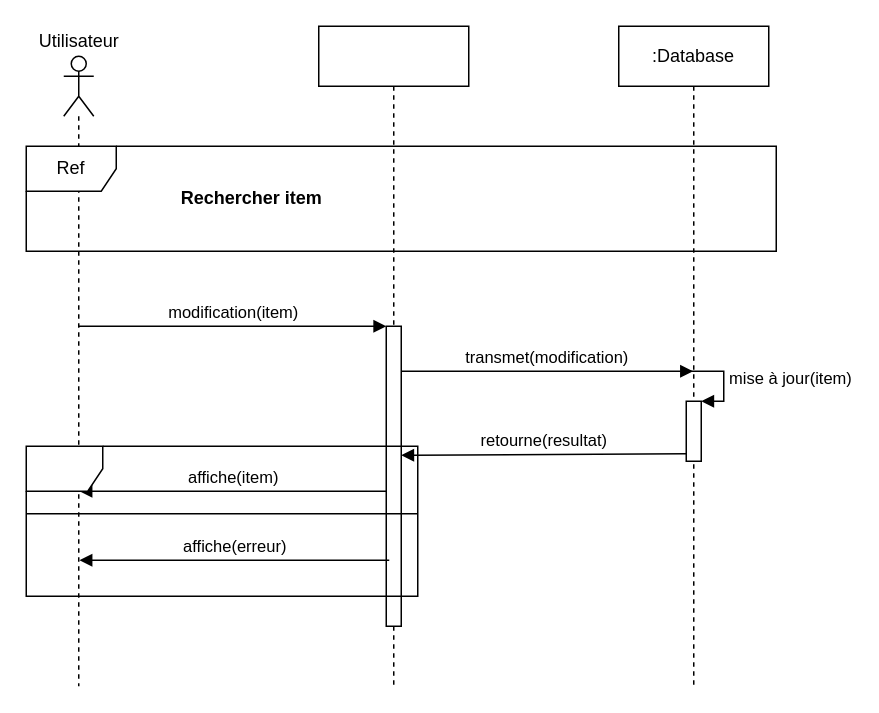
The diagram is 879 pixels wide and 713 high, and some of its shapes have lost their labels. Each missing label, with the box of its shape:
:App: (317, 25, 469, 686)
Alt: (25, 445, 418, 596)
